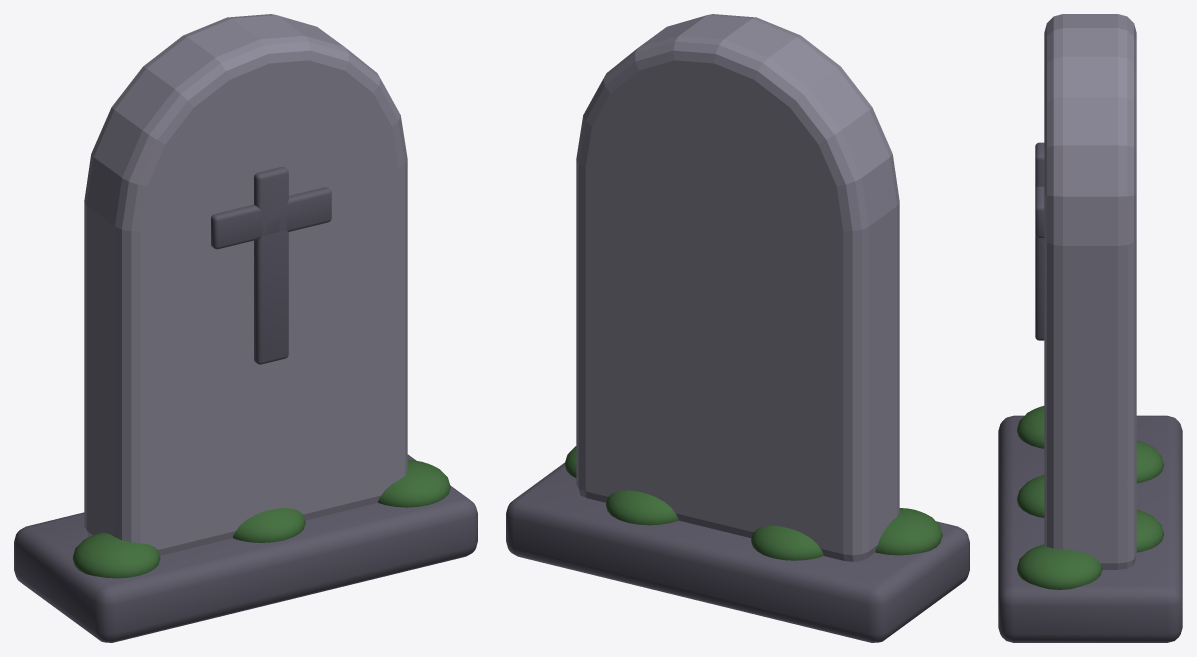
The model's file is Tombstone.fbx.
The picture shows the model from 3 angles, left to right: view 1: azimuth 30°, elevation 25°; view 2: azimuth 150°, elevation 25°; view 3: azimuth 270°, elevation 25°; orthographic projection. The views are drawn at different scales.
Visible parts, largest first — view 1: Tombstone; view 2: Tombstone; view 3: Tombstone.
Boxes of the visible parts, x1,y1,x2,y2 form: Tombstone: [14, 14, 477, 642]; Tombstone: [506, 14, 969, 642]; Tombstone: [998, 14, 1182, 642].
Size of the model in its own units: 4.2 by 5.7 by 1.8.
Materials: 1 (1 with a texture image).
